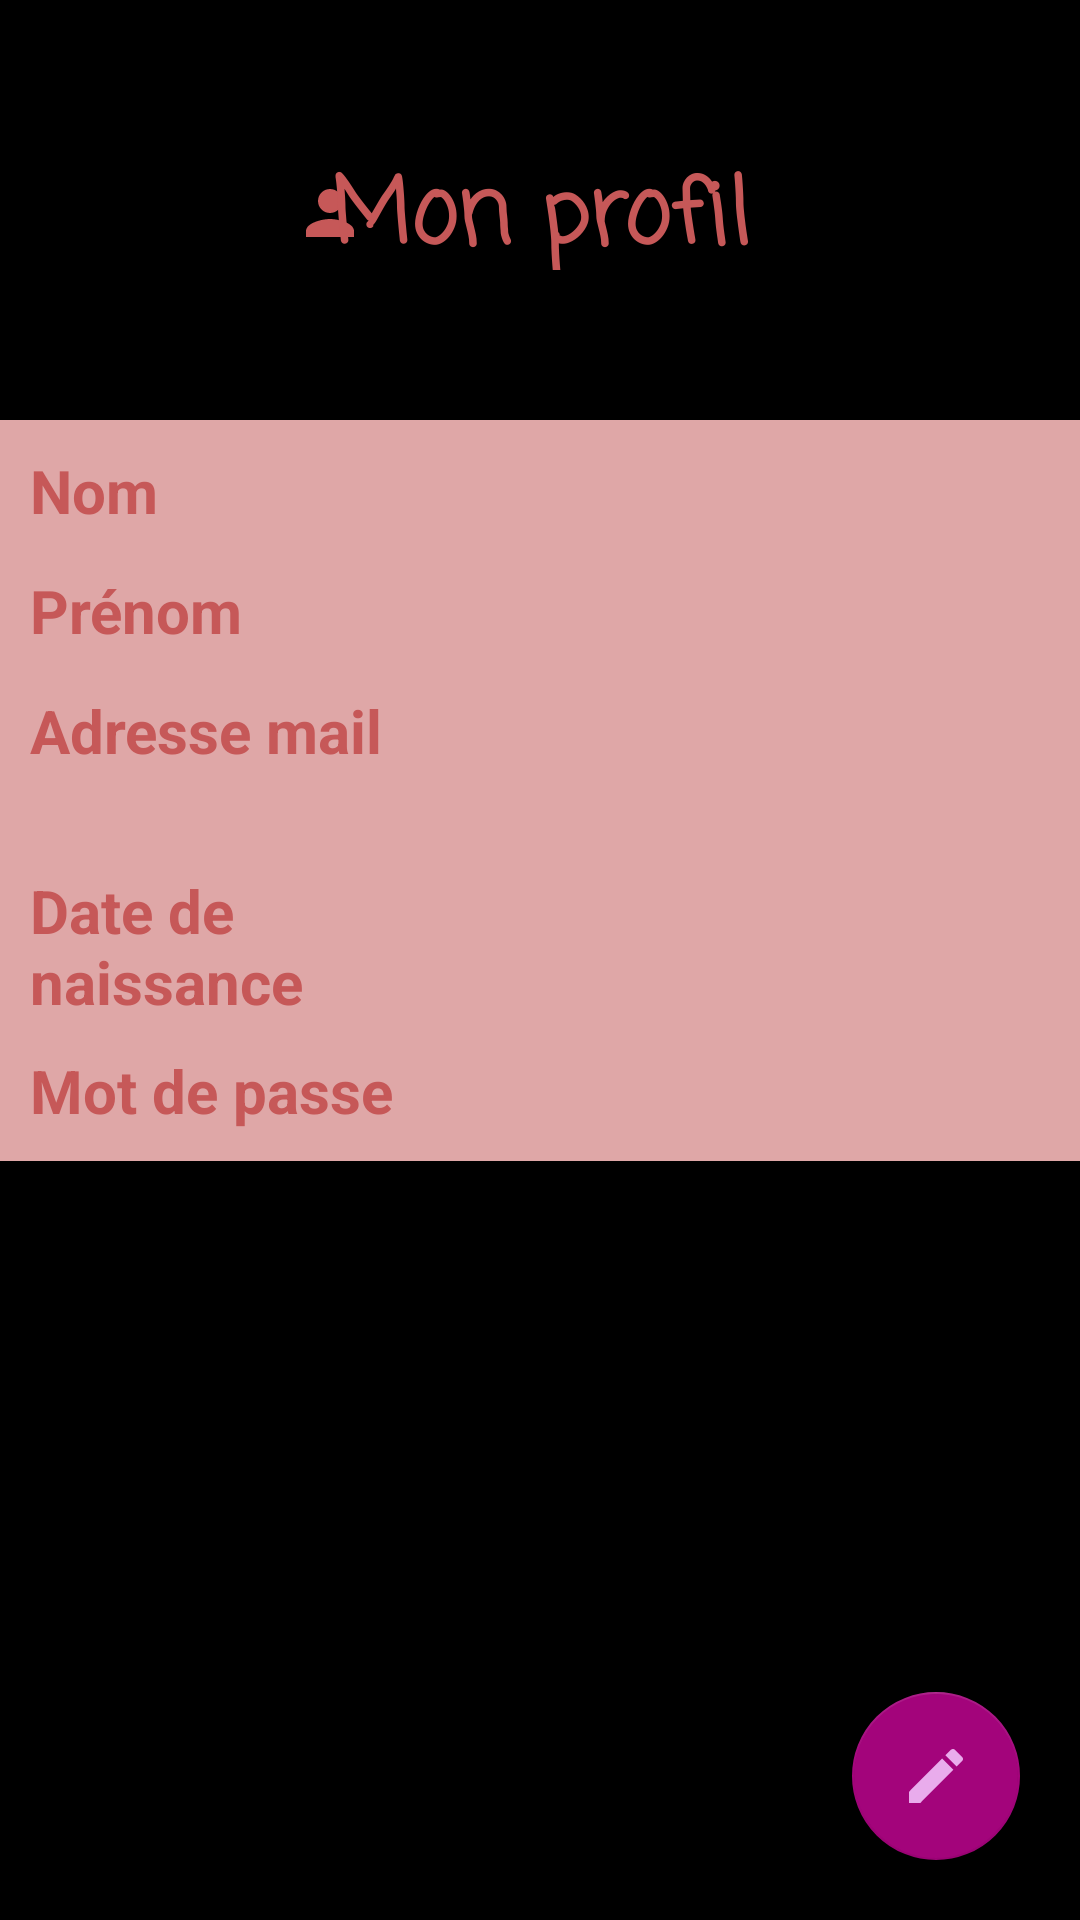

Where to tap for icons on this 1080px×1920px app screen, as (x,y):
edit: (936,1776)
